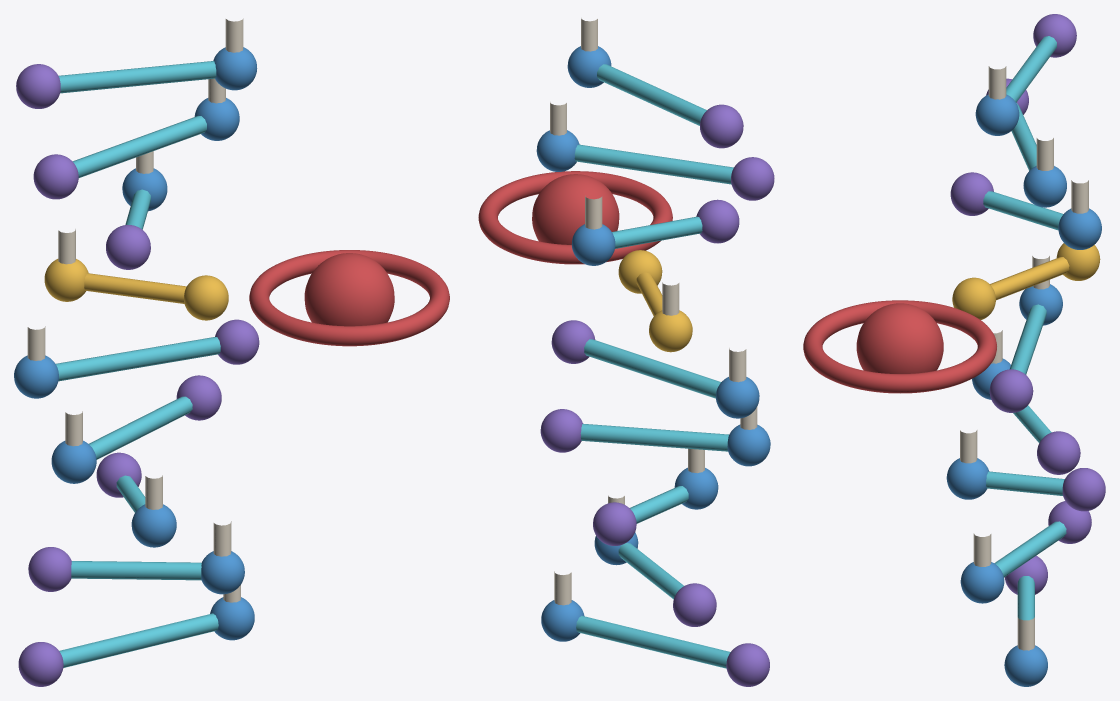
Rendered from bio-genetics-mutation.glb.
3 views of the same model, side by side, from view 1: azimuth 30°, elevation 25°; view 2: azimuth 150°, elevation 25°; view 3: azimuth 270°, elevation 25° (orthographic). The views are drawn at different scales.
Visible parts, largest first — view 1: mutation-warning-ring, mutated-base-mismatch, dna-with-single-base-change-paired-base-rung-4, dna-with-single-base-change-paired-base-rung-0, dna-with-single-base-change-paired-base-rung-8, dna-with-single-base-change-paired-base-rung-7, dna-with-single-base-change-paired-base-rung-1, dna-with-single-base-change-paired-base-rung-3, dna-with-single-base-change-paired-base-rung-5, dna-with-single-base-change-base-dot-right-7, dna-with-single-base-change-base-dot-right-0, dna-with-single-base-change-base-dot-right-5 (+16 smaller); view 2: mutation-warning-ring, mutated-base-mismatch, dna-with-single-base-change-paired-base-rung-7, dna-with-single-base-change-paired-base-rung-0, dna-with-single-base-change-paired-base-rung-3, dna-with-single-base-change-paired-base-rung-4, dna-with-single-base-change-paired-base-rung-8, dna-with-single-base-change-paired-base-rung-6, dna-with-single-base-change-base-dot-right-0, dna-with-single-base-change-base-dot-right-1, dna-with-single-base-change-base-dot-right-2, dna-with-single-base-change-base-dot-right-8 (+23 smaller); view 3: mutation-warning-ring, mutated-base-mismatch, dna-with-single-base-change-base-dot-right-3, dna-with-single-base-change-base-dot-right-2, dna-with-single-base-change-base-dot-right-4, dna-with-single-base-change-base-dot-left-0, dna-with-single-base-change-base-dot-left-6, dna-with-single-base-change-base-dot-left-8, dna-with-single-base-change-base-dot-left-7, dna-with-single-base-change-base-dot-left-1, dna-with-single-base-change-paired-base-rung-5, dna-with-single-base-change-paired-base-rung-6 (+22 smaller).
Part boxes in pixels (bbox=[...]): mutation-warning-ring: bbox=[249, 250, 449, 346]; mutated-base-mismatch: bbox=[304, 253, 394, 326]; dna-with-single-base-change-paired-base-rung-4: bbox=[55, 337, 220, 381]; dna-with-single-base-change-paired-base-rung-0: bbox=[59, 613, 218, 667]; dna-with-single-base-change-paired-base-rung-8: bbox=[58, 61, 216, 93]; dna-with-single-base-change-paired-base-rung-7: bbox=[73, 116, 206, 177]; dna-with-single-base-change-paired-base-rung-1: bbox=[71, 561, 201, 580]; dna-with-single-base-change-paired-base-rung-3: bbox=[89, 396, 192, 459]; dna-with-single-base-change-paired-base-rung-5: bbox=[84, 273, 186, 303]; dna-with-single-base-change-base-dot-right-7: bbox=[33, 154, 78, 199]; dna-with-single-base-change-base-dot-right-0: bbox=[18, 642, 63, 686]; dna-with-single-base-change-base-dot-right-5: bbox=[184, 275, 228, 320]; mutation-warning-ring: bbox=[478, 171, 672, 264]; mutated-base-mismatch: bbox=[532, 174, 619, 244]; dna-with-single-base-change-paired-base-rung-7: bbox=[574, 144, 733, 184]; dna-with-single-base-change-paired-base-rung-0: bbox=[576, 615, 730, 668]; dna-with-single-base-change-paired-base-rung-3: bbox=[580, 423, 728, 451]; dna-with-single-base-change-paired-base-rung-4: bbox=[584, 339, 720, 398]; dna-with-single-base-change-paired-base-rung-8: bbox=[597, 64, 706, 125]; dna-with-single-base-change-paired-base-rung-6: bbox=[612, 216, 702, 248]; dna-with-single-base-change-base-dot-right-0: bbox=[726, 643, 769, 686]; dna-with-single-base-change-base-dot-right-1: bbox=[673, 583, 716, 626]; dna-with-single-base-change-base-dot-right-2: bbox=[593, 502, 636, 545]; dna-with-single-base-change-base-dot-right-8: bbox=[700, 104, 743, 148]; mutation-warning-ring: bbox=[803, 300, 996, 393]; mutated-base-mismatch: bbox=[856, 303, 943, 373]; dna-with-single-base-change-base-dot-right-3: bbox=[1037, 431, 1080, 474]; dna-with-single-base-change-base-dot-right-2: bbox=[1062, 468, 1105, 511]; dna-with-single-base-change-base-dot-right-4: bbox=[989, 369, 1033, 412]; dna-with-single-base-change-base-dot-left-0: bbox=[1004, 645, 1047, 686]; dna-with-single-base-change-base-dot-left-6: bbox=[1058, 208, 1101, 249]; dna-with-single-base-change-base-dot-left-8: bbox=[975, 94, 1019, 135]; dna-with-single-base-change-base-dot-left-7: bbox=[1023, 166, 1066, 207]; dna-with-single-base-change-base-dot-left-1: bbox=[960, 562, 1004, 603]; dna-with-single-base-change-paired-base-rung-5: bbox=[990, 257, 1069, 300]; dna-with-single-base-change-paired-base-rung-6: bbox=[983, 191, 1063, 230].
Size of what is drawn, in the model's own units: 0.805 by 1.4 by 0.624.
